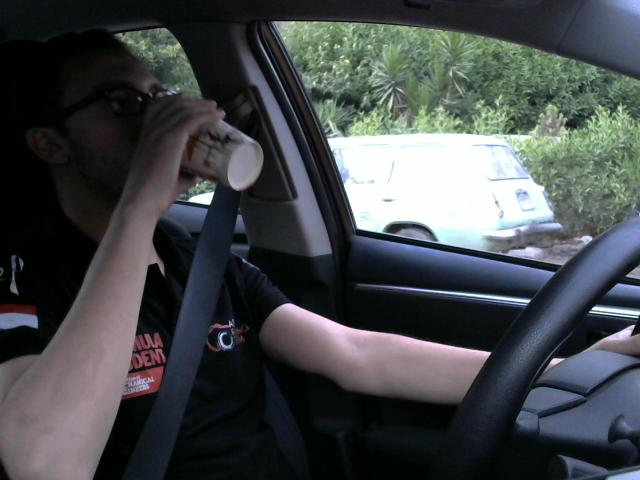Drinking: (148, 100, 270, 190)
